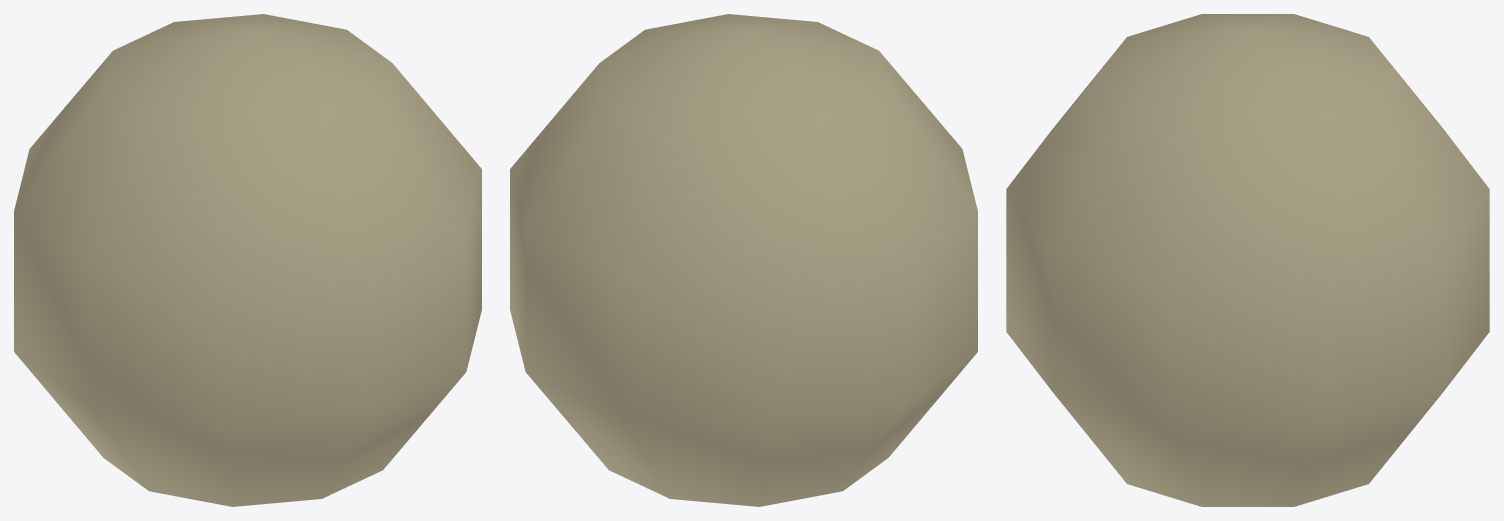
Rendered from AppleDesktop-transformed.glb.
The picture shows the model from 3 angles, left to right: view 1: azimuth 30°, elevation 25°; view 2: azimuth 150°, elevation 25°; view 3: azimuth 270°, elevation 25°; orthographic projection.
Visible parts, largest first — view 1: Object_3; view 2: Object_3; view 3: Object_3.
Part boxes in pixels (x1,y1,x2,y2): Object_3: (14,14,481,506); Object_3: (510,14,977,506); Object_3: (1006,14,1489,506).
Size of the model in its own units: 1809 by 2000 by 1902.
